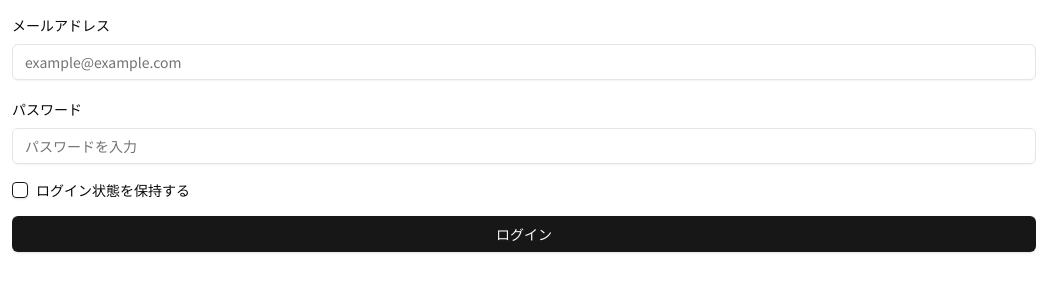
Test case: LoginForm › フォームバリデーション › メールアドレス未入力でsubmitするとバリデーションエラーが表示されること
The width and height of the screenshot is (1048, 297).
Type "password123" into the password field labelled "パスワード" at (524, 146), box [12,128,1036,164]
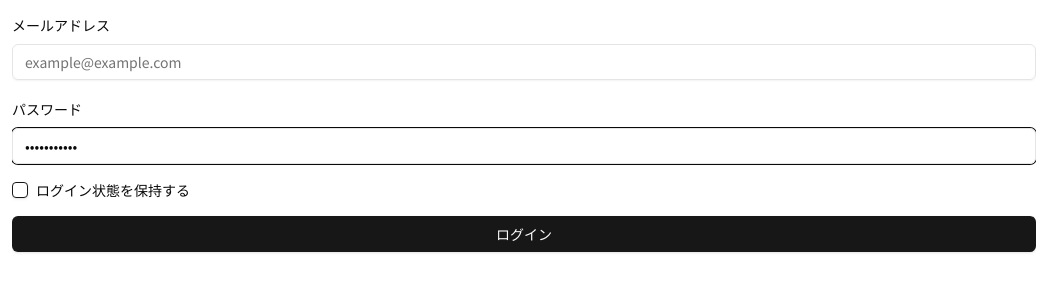
Click the button "ログイン" at (524, 234), box [12,216,1036,252]
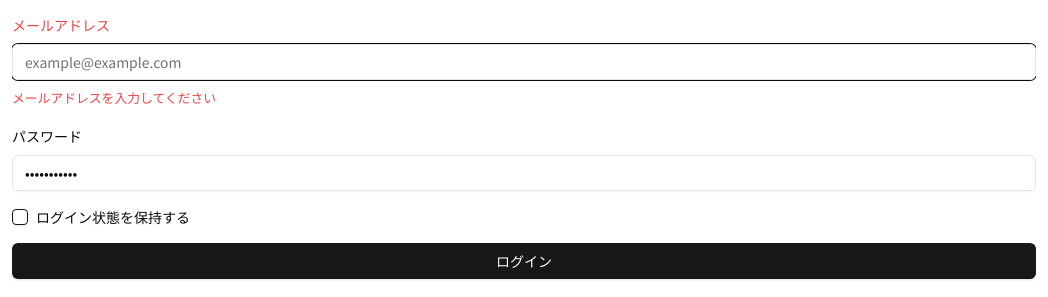
expect the text "メールアドレスを入力してください" is shown: met, box [12,88,216,107]
